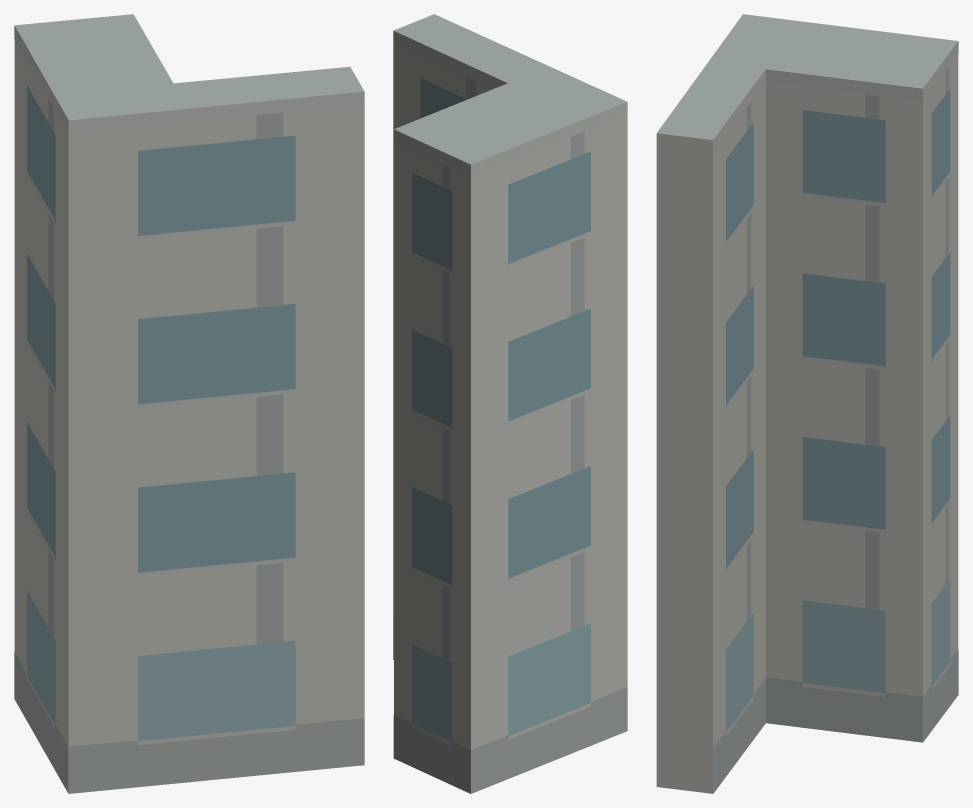
The model's file is survey-upis-32905497.glb.
The picture shows the model from 3 angles, left to right: view 1: azimuth 30°, elevation 25°; view 2: azimuth 150°, elevation 25°; view 3: azimuth 270°, elevation 25°; orthographic projection. The views are drawn at different scales.
Visible parts, largest first — view 1: survey-upis-32905497.tmp; view 2: survey-upis-32905497.tmp; view 3: survey-upis-32905497.tmp.
Part boxes in pixels (<box>): survey-upis-32905497.tmp: <box>14,14,364,793</box>; survey-upis-32905497.tmp: <box>393,14,627,793</box>; survey-upis-32905497.tmp: <box>656,14,958,793</box>.
Bounding box in the file's own units: 5.05 × 12.2 × 5.11.
